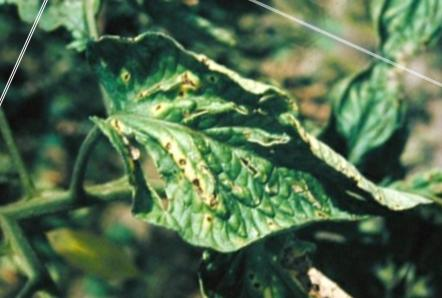Tomato Septoria leaf spot: (22, 0, 442, 298)
